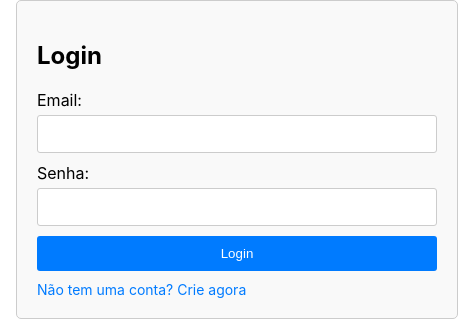
Test: Login component › allows user to toggle between login and create account
Expected: the heading "Login" is shown, [37,41,102,70]
Click the text "Não tem uma conta? Crie agora": (142, 289) [37,281,246,298]
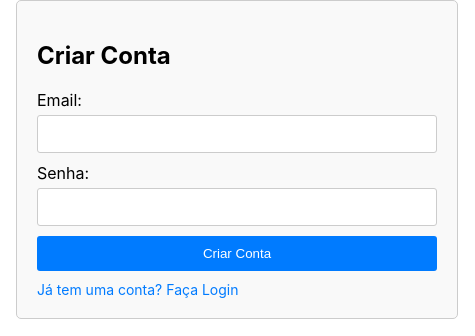
Expected: the heading "Criar Conta" is shown, [37,41,171,70]
Click the text "Já tem uma conta? Faça Login": (138, 289) [37,281,238,298]
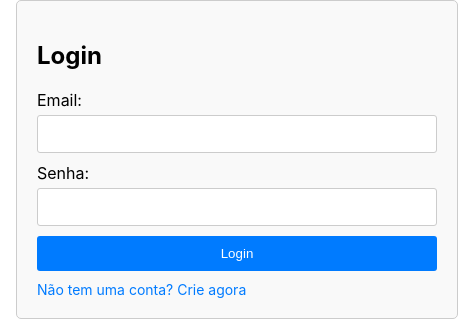
Expected: the heading "Login" is shown, [37,41,102,70]
